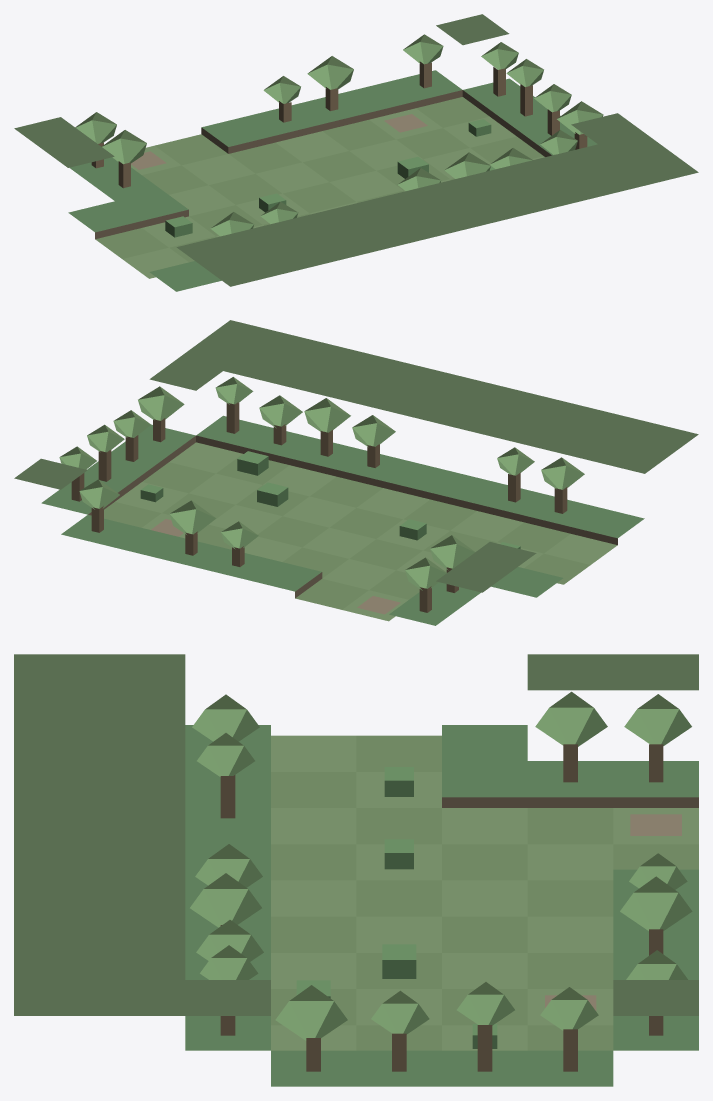
The picture shows the model from 3 angles, top to bottom: view 1: azimuth 30°, elevation 25°; view 2: azimuth 150°, elevation 25°; view 3: azimuth 270°, elevation 25°; orthographic projection. The views are drawn at different scales.
Visible parts, largest first — view 1: mesh0; view 2: mesh0; view 3: mesh0.
Boxes of the visible parts, x1,y1,x2,y2 form: mesh0: (14,14,698,291); mesh0: (14,320,698,625); mesh0: (14,654,698,1086).
Bounding box in the file's own units: 10 × 1.27 × 8.
